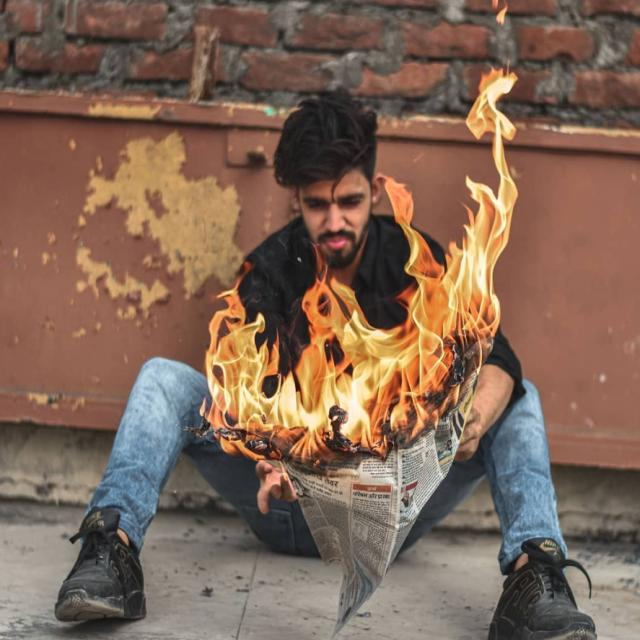fire: (298, 245, 500, 467), (384, 61, 518, 284), (200, 261, 305, 459)
